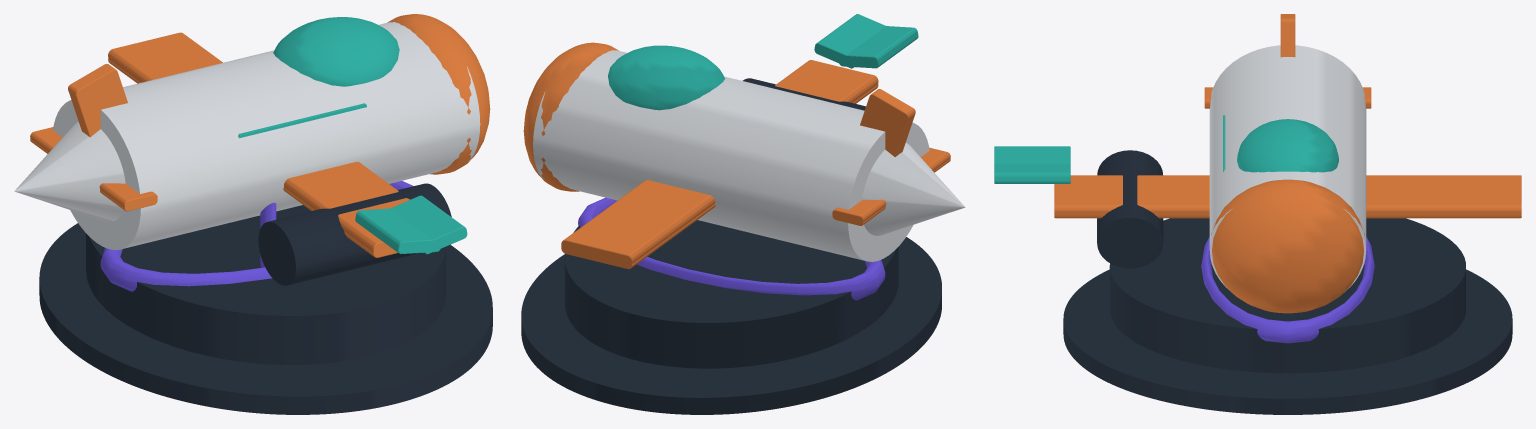
The model's file is 0956_农业科技图鉴_农用无人机.glb.
The picture shows the model from 3 angles, left to right: view 1: azimuth 30°, elevation 25°; view 2: azimuth 150°, elevation 25°; view 3: azimuth 270°, elevation 25°; orthographic projection. The views are drawn at different scales.
Visible parts, largest first — view 1: card_0956; view 2: card_0956; view 3: card_0956.
Boxes of the visible parts, x1,y1,x2,y2 form: card_0956: (14, 14, 492, 414); card_0956: (521, 14, 965, 414); card_0956: (994, 14, 1521, 414).
Bounding box in the file's own units: 1.7 × 1 × 1.92.
